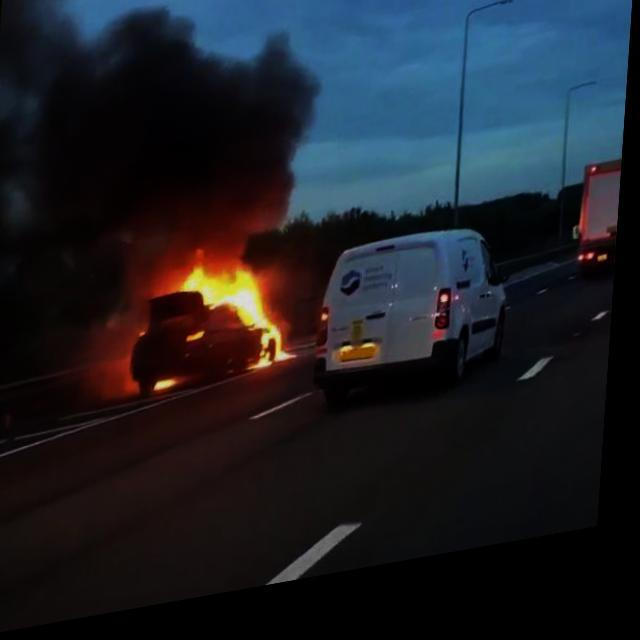Fire: (185, 250, 302, 393)
